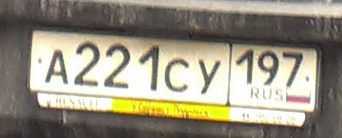character: (100, 41, 131, 94), (73, 40, 100, 89), (138, 42, 162, 96), (43, 48, 72, 90), (196, 56, 222, 99), (256, 46, 280, 88), (164, 55, 190, 93), (281, 47, 304, 88), (235, 46, 256, 87)
